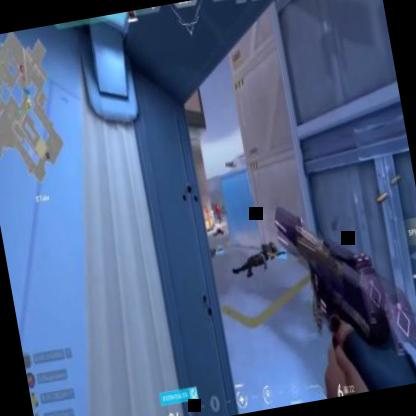enemy: (212, 201, 222, 224)
enemy_head: (214, 202, 218, 206)
